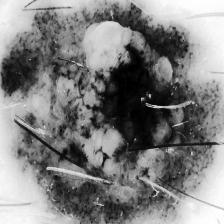Benign Marking or Mole: (0, 5, 223, 224)
